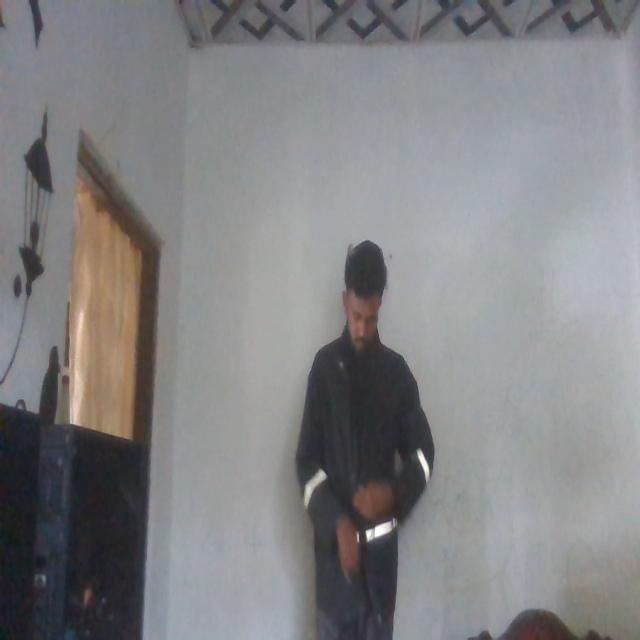Jacket_Wearer: (282, 326, 436, 585)
Person: (288, 236, 432, 640)
